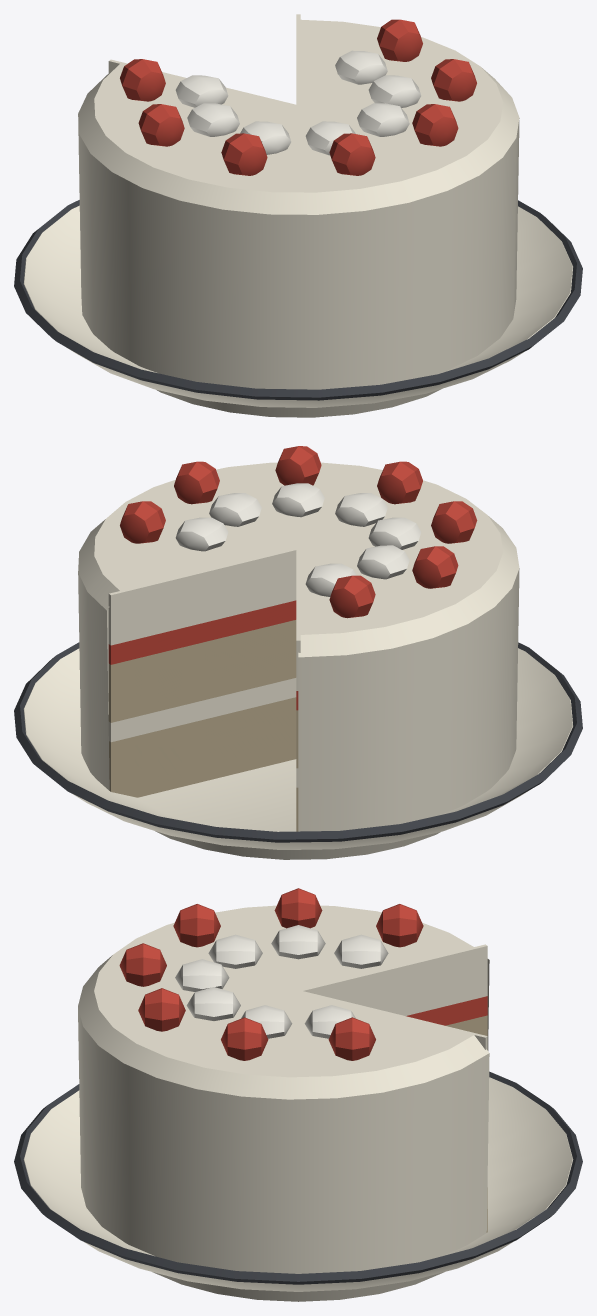
Rendered from cook_cake.glb.
3 views of the same model, one above another, from view 1: azimuth 30°, elevation 25°; view 2: azimuth 150°, elevation 25°; view 3: azimuth 270°, elevation 25° (orthographic).
Visible parts, largest first — view 1: body; view 2: body; view 3: body.
Part boxes in pixels (x1=…): body: x1=14, y1=14, x2=582, y2=417; body: x1=14, y1=446, x2=582, y2=859; body: x1=14, y1=888, x2=582, y2=1301.
Size of the model in its own units: 0.0668 by 0.0346 by 0.0668.
